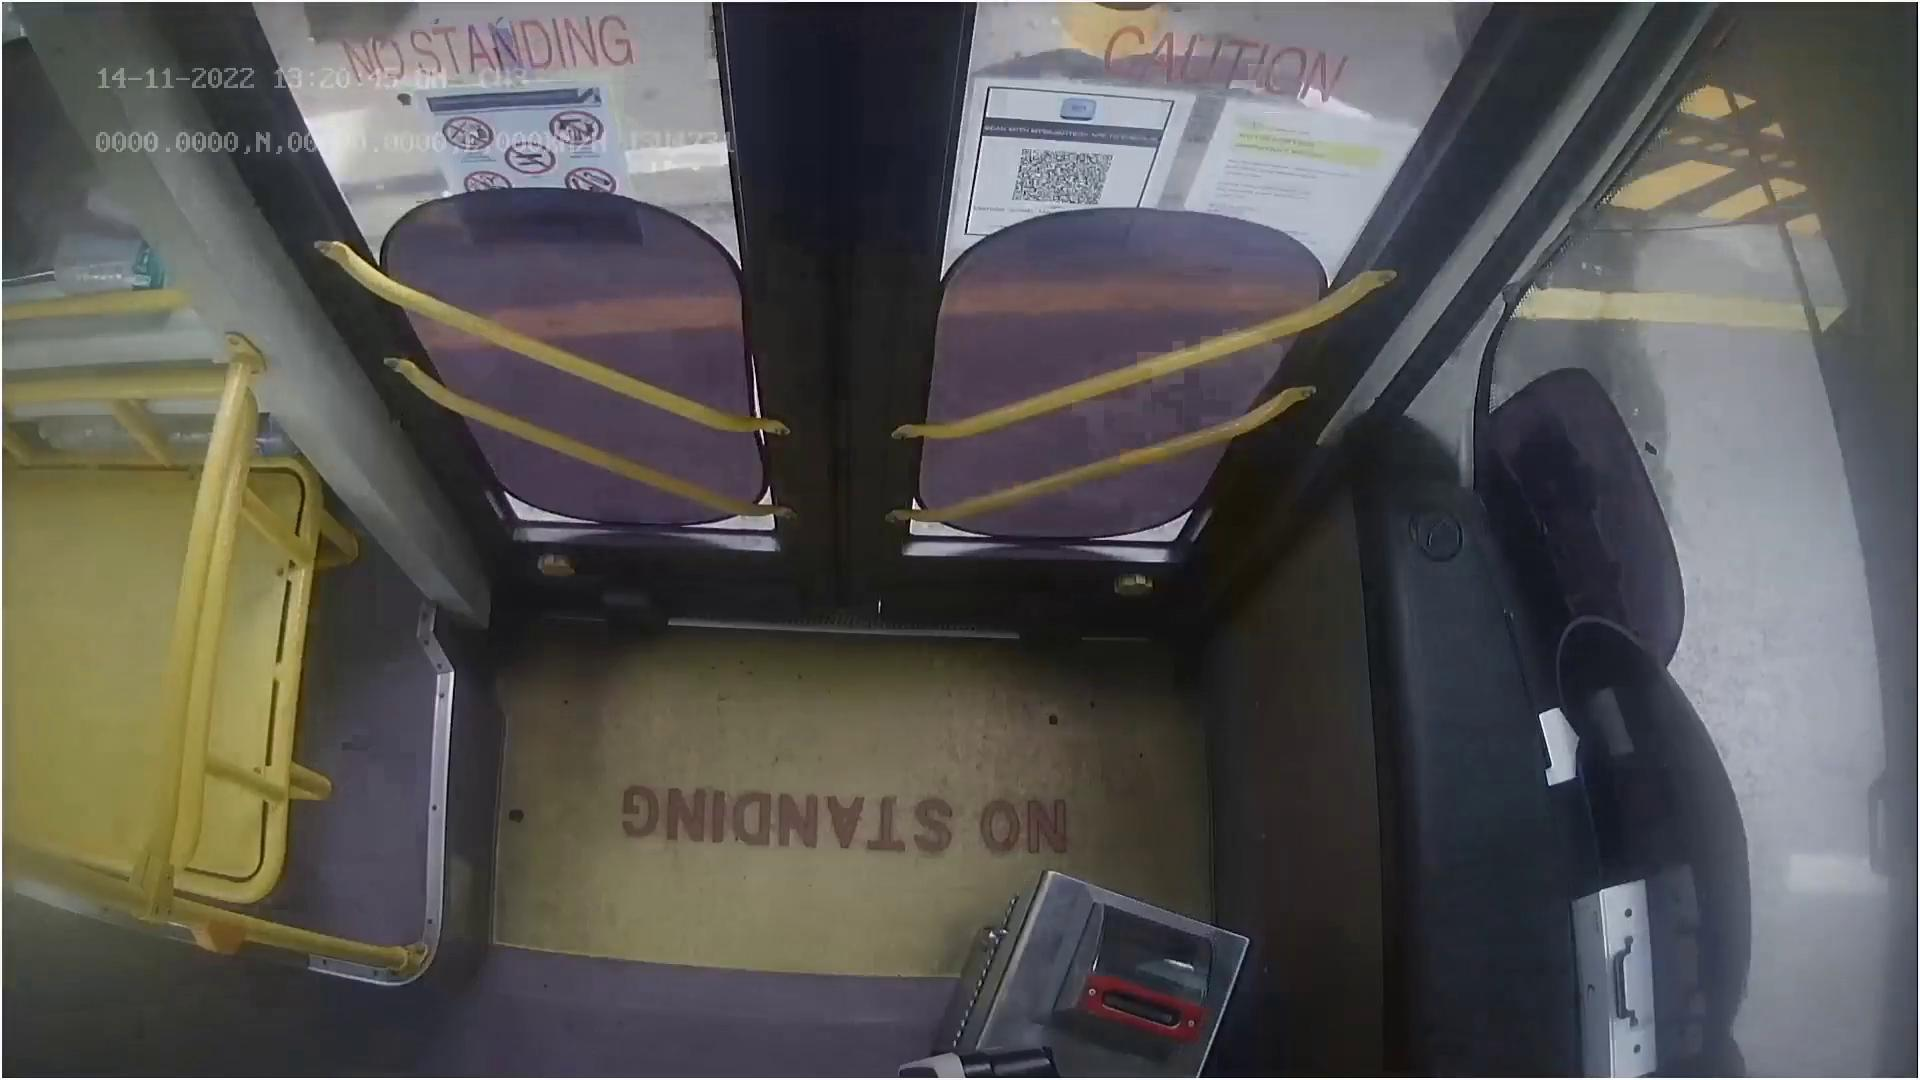close: (290, 0, 1452, 152)
